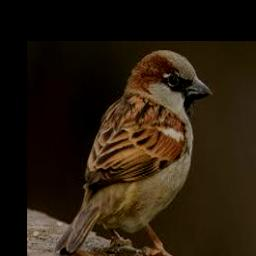Sparrow: (55, 49, 213, 256)
